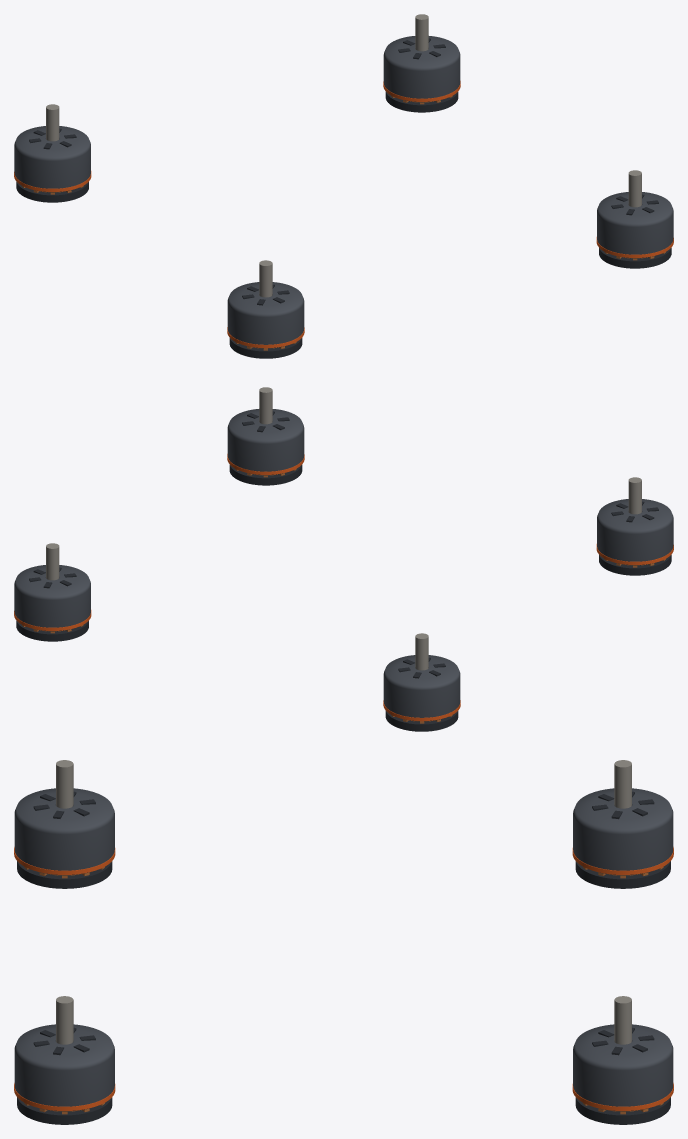
The model's file is motor.glb.
3 renders of one model, top to bottom at view 1: azimuth 30°, elevation 25°; view 2: azimuth 150°, elevation 25°; view 3: azimuth 270°, elevation 25°, orthographic. The views are drawn at different scales.
Visible parts, largest first — view 1: Bell (×4), Motor base (×4); view 2: Bell (×4), Motor base (×4); view 3: Bell (×4), Motor base (×4), M5 shaft (×4).
Boxes of the visible parts, x1=… form: Bell (×4): x1=14, y1=36, x2=673, y2=348; Motor base (×4): x1=16, y1=91, x2=671, y2=358; Bell (×4): x1=14, y1=409, x2=673, y2=721; Motor base (×4): x1=16, y1=464, x2=671, y2=731; Bell (×4): x1=14, y1=788, x2=673, y2=1111; Motor base (×4): x1=17, y1=861, x2=670, y2=1124; M5 shaft (×4): x1=56, y1=760, x2=631, y2=1044.
Size of the model in its own units: 0.188 by 0.033 by 0.188.
